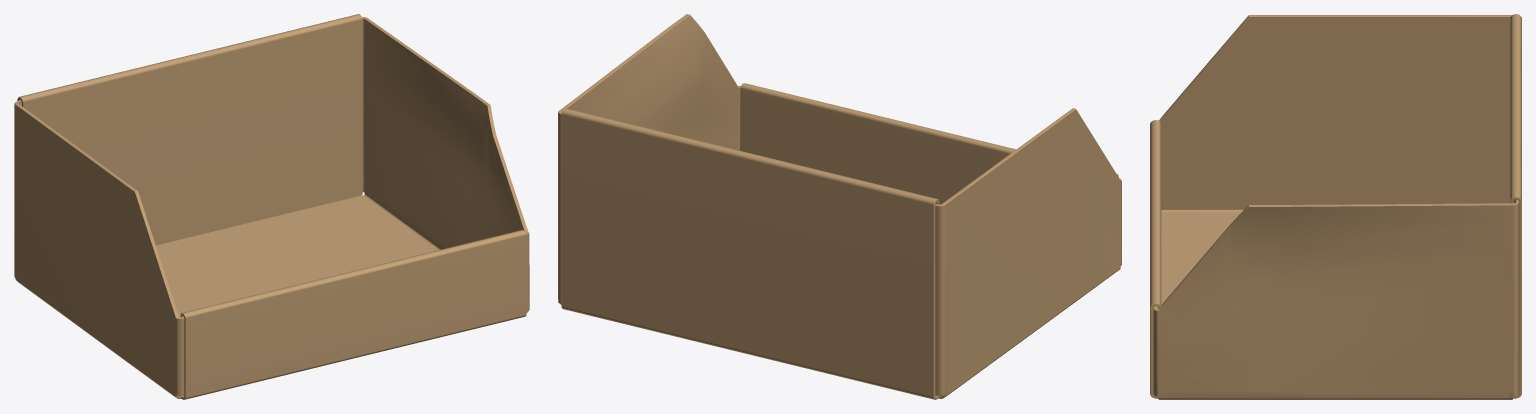
File: box_cardboard_open_a05.glb
3 renders of one model, left to right at view 1: azimuth 30°, elevation 25°; view 2: azimuth 150°, elevation 25°; view 3: azimuth 270°, elevation 25°, orthographic. The views are drawn at different scales.
Bounding box in the file's own units: 0.6162 × 0.3024 × 0.5053.
